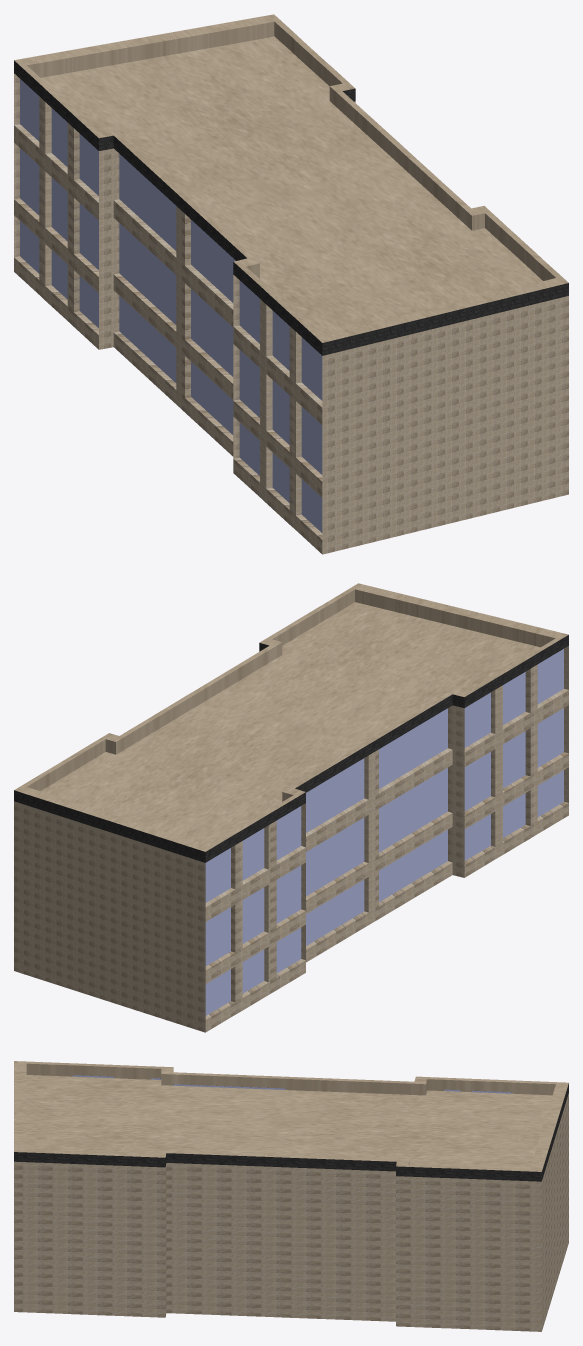
3 renders of one model, top to bottom at view 1: azimuth 30°, elevation 25°; view 2: azimuth 150°, elevation 25°; view 3: azimuth 270°, elevation 25°, orthographic. The views are drawn at different scales.
Visible parts, largest first — view 1: Cube.006; view 2: Cube.006; view 3: Cube.006.
Boxes of the visible parts, <box> form: Cube.006: <box>14,14,568,554</box>; Cube.006: <box>14,583,568,1032</box>; Cube.006: <box>14,1061,568,1331</box>.
Size of the model in its own units: 21.38 by 14.37 by 45.19.
4 materials, 3 textured.
